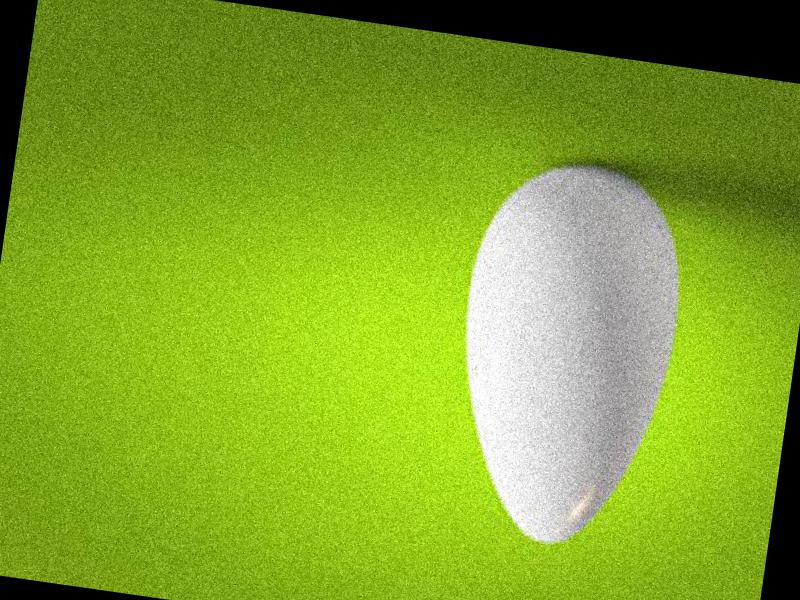Eggs: (435, 154, 695, 562)
